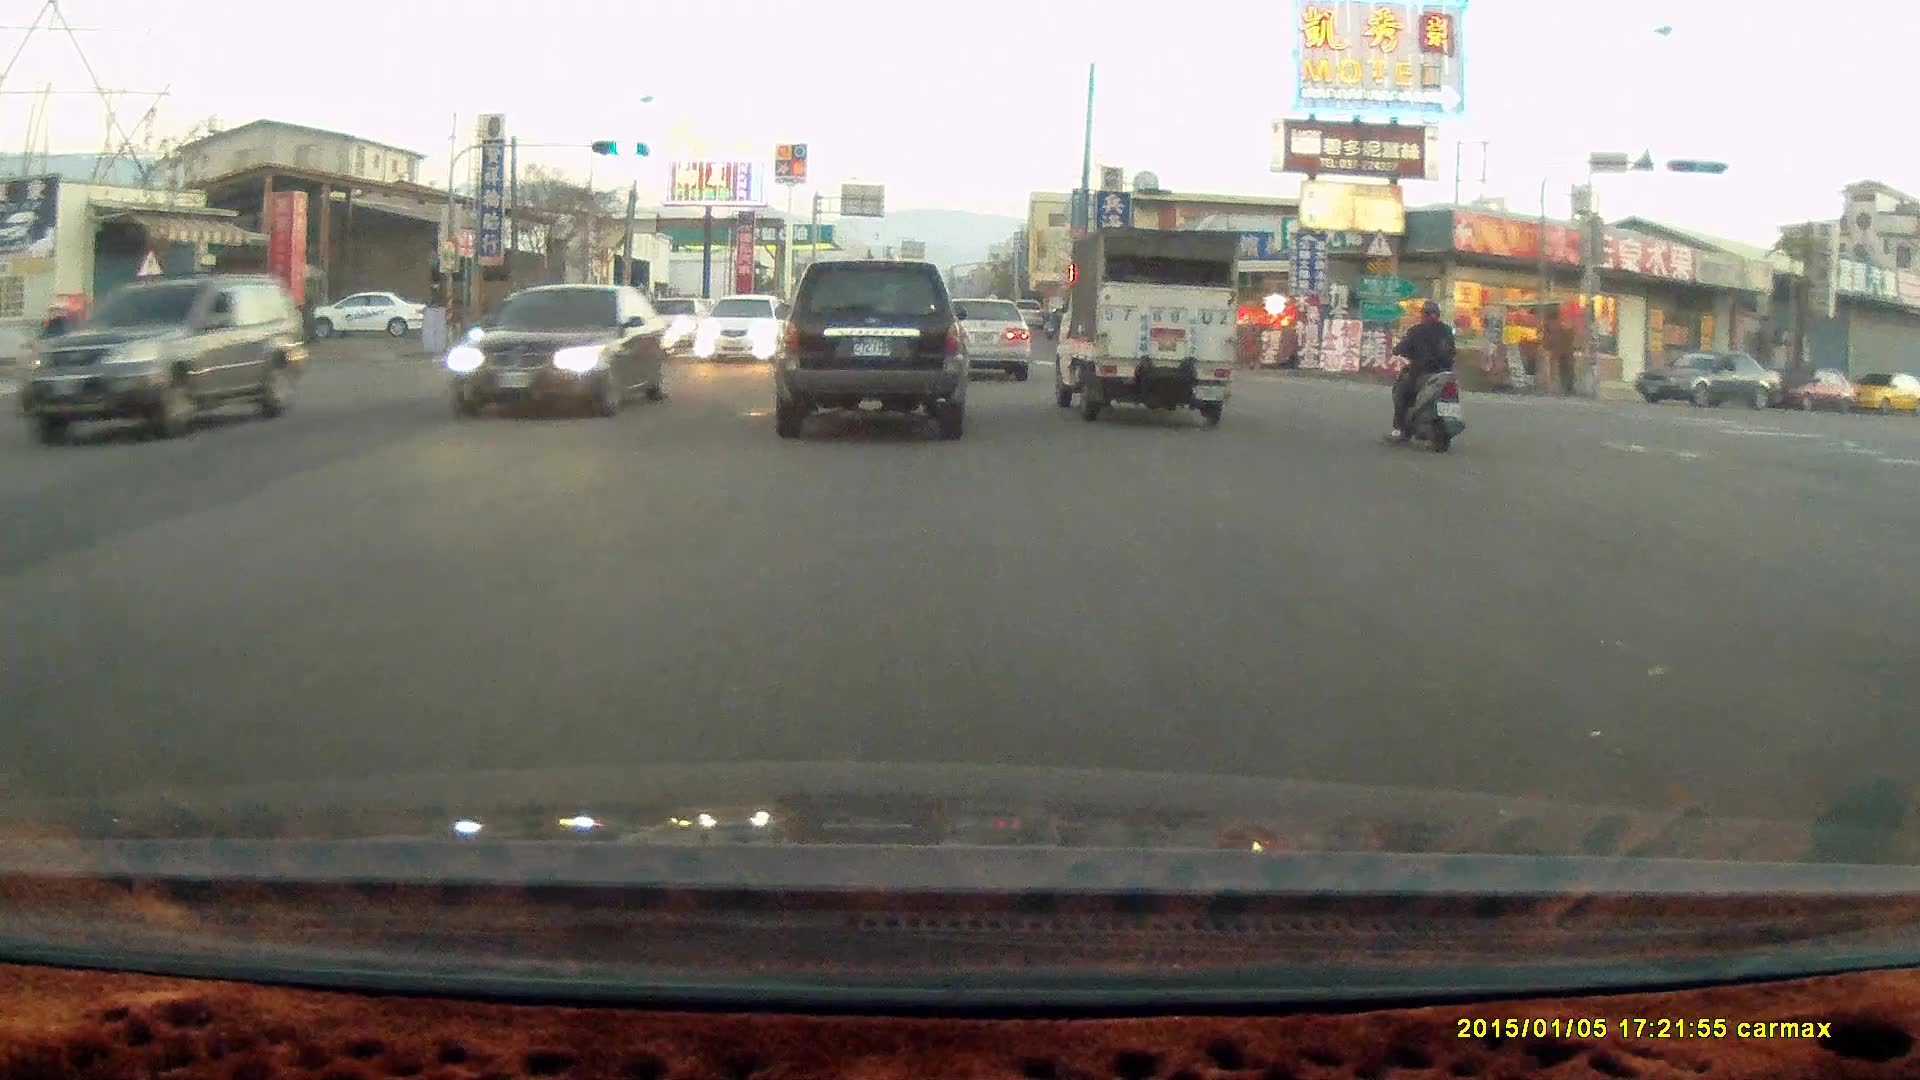rider: (1384, 295, 1466, 448)
vehicle: (23, 276, 299, 442), (1045, 223, 1238, 424), (771, 256, 969, 440), (441, 283, 677, 417), (925, 290, 1032, 379), (465, 281, 584, 361), (1633, 349, 1785, 410), (937, 297, 1035, 383), (694, 293, 789, 363), (313, 288, 432, 338), (1767, 366, 1860, 413), (1845, 372, 1920, 414)
